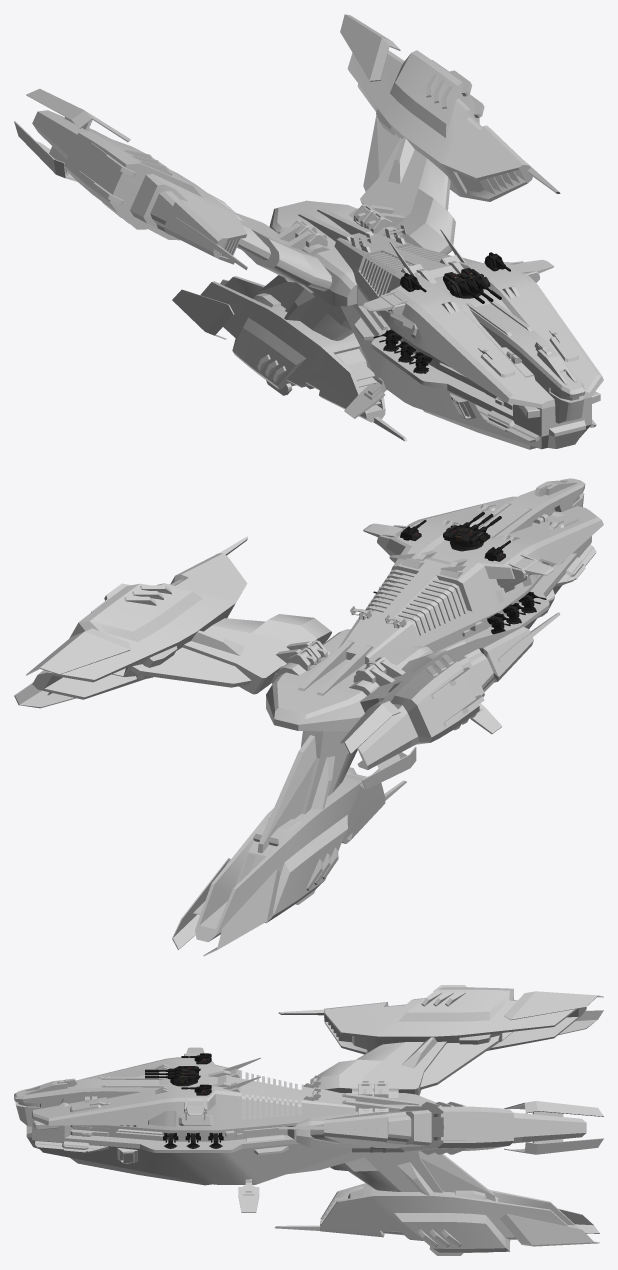
The model's file is USS-Virginia_blue.FBX.
The picture shows the model from 3 angles, top to bottom: view 1: azimuth 30°, elevation 25°; view 2: azimuth 150°, elevation 25°; view 3: azimuth 270°, elevation 25°; orthographic projection. The views are drawn at different scales.
Visible parts, largest first — view 1: USS Virginia_Battleship, Turret-X004; view 2: USS Virginia_Battleship, Turret-X004; view 3: USS Virginia_Battleship, Turret-X004.
Part boxes in pixels (left/top/right/bottom): USS Virginia_Battleship: left=14, top=14, right=603, bottom=449; Turret-X004: left=443, top=268, right=490, bottom=298; USS Virginia_Battleship: left=14, top=478, right=603, bottom=956; Turret-X004: left=443, top=525, right=490, bottom=551; USS Virginia_Battleship: left=14, top=985, right=603, bottom=1255; Turret-X004: left=170, top=1066, right=200, bottom=1086.
Bounding box in the file's own units: 12379 × 22200 × 8474.
